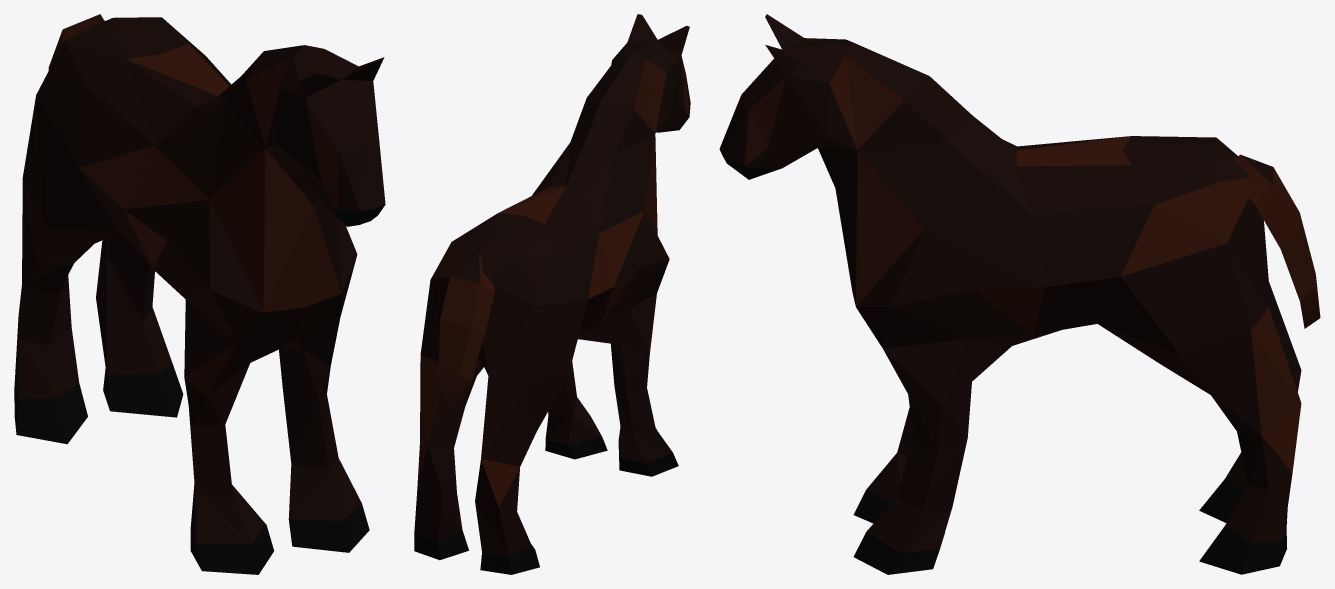
File: Animal_Horse_M1.fbx
3 renders of one model, left to right at view 1: azimuth 30°, elevation 25°; view 2: azimuth 150°, elevation 25°; view 3: azimuth 270°, elevation 25°, orthographic. The views are drawn at different scales.
Parts seen in each view (by area): view 1: Animal_Horse_M1; view 2: Animal_Horse_M1; view 3: Animal_Horse_M1.
Part boxes in pixels (<box>): Animal_Horse_M1: <box>14,14,385,574</box>; Animal_Horse_M1: <box>414,14,690,574</box>; Animal_Horse_M1: <box>719,14,1320,574</box>.
Size of the model in its own units: 101 by 290 by 312.
